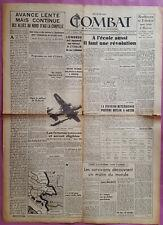paper: (3, 4, 162, 224)
